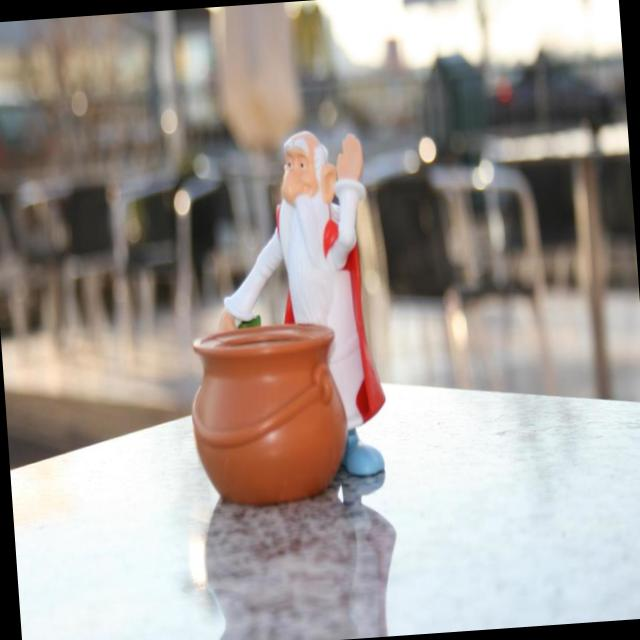Toy: (204, 124, 390, 488), (186, 318, 352, 510)
